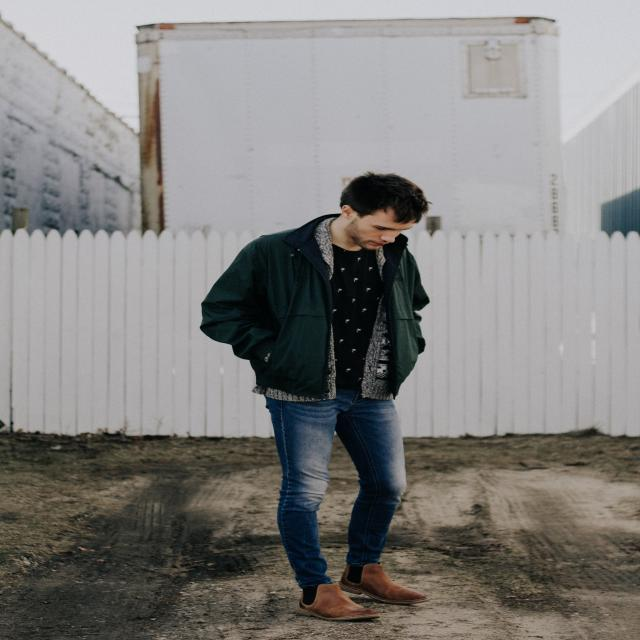standing: (200, 169, 442, 627)
